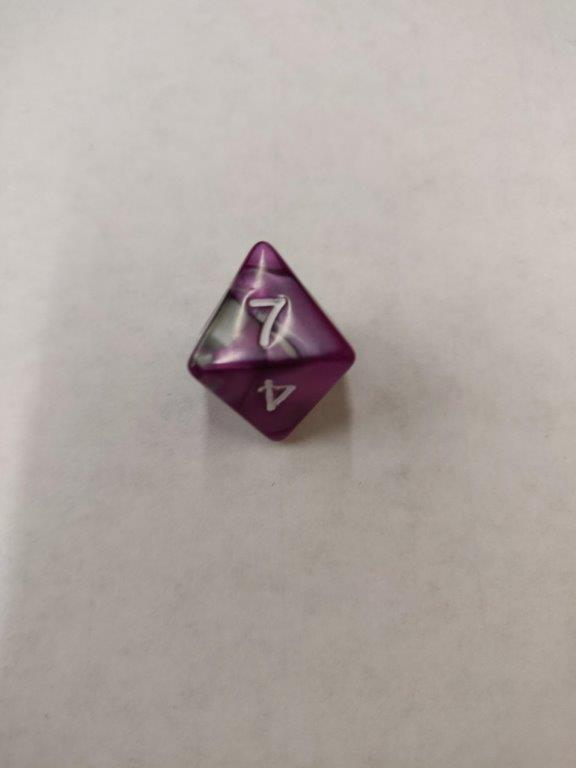d8-7: (184, 241, 356, 444)
